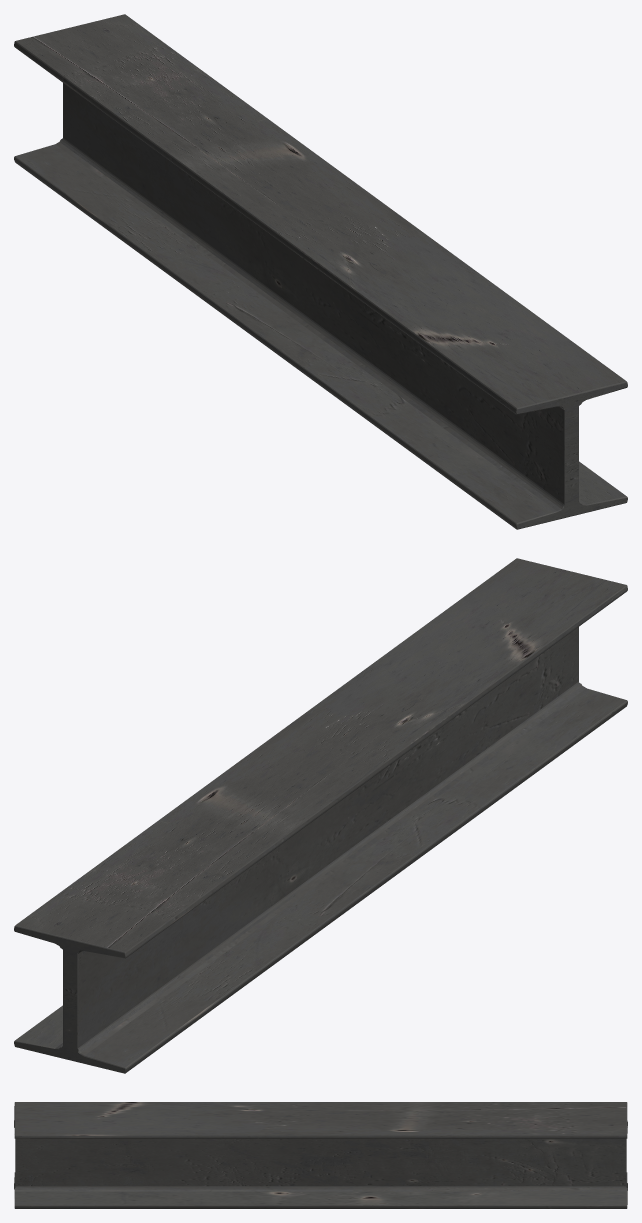
File: beam.fbx
The picture shows the model from 3 angles, top to bottom: view 1: azimuth 30°, elevation 25°; view 2: azimuth 150°, elevation 25°; view 3: azimuth 270°, elevation 25°; orthographic projection. The views are drawn at different scales.
Visible parts, largest first — view 1: beam; view 2: beam; view 3: beam.
Boxes of the visible parts, <box> form: beam: <box>14,14,627,529</box>; beam: <box>14,558,627,1073</box>; beam: <box>14,1102,627,1208</box>.
Size of the model in its own units: 63.06 by 65.46 by 490.
